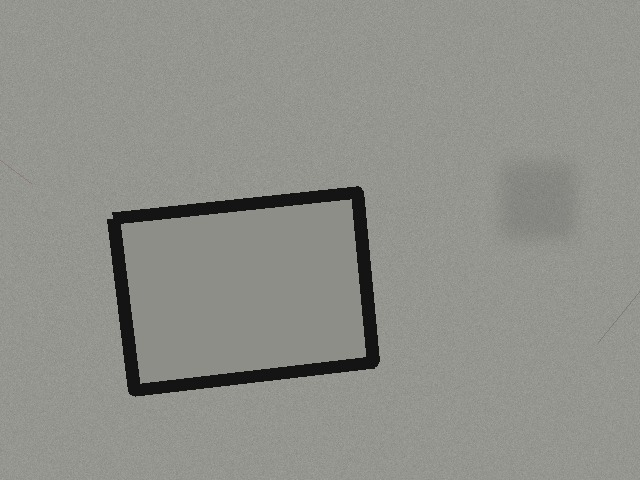parking_area: (113, 192, 373, 390)
